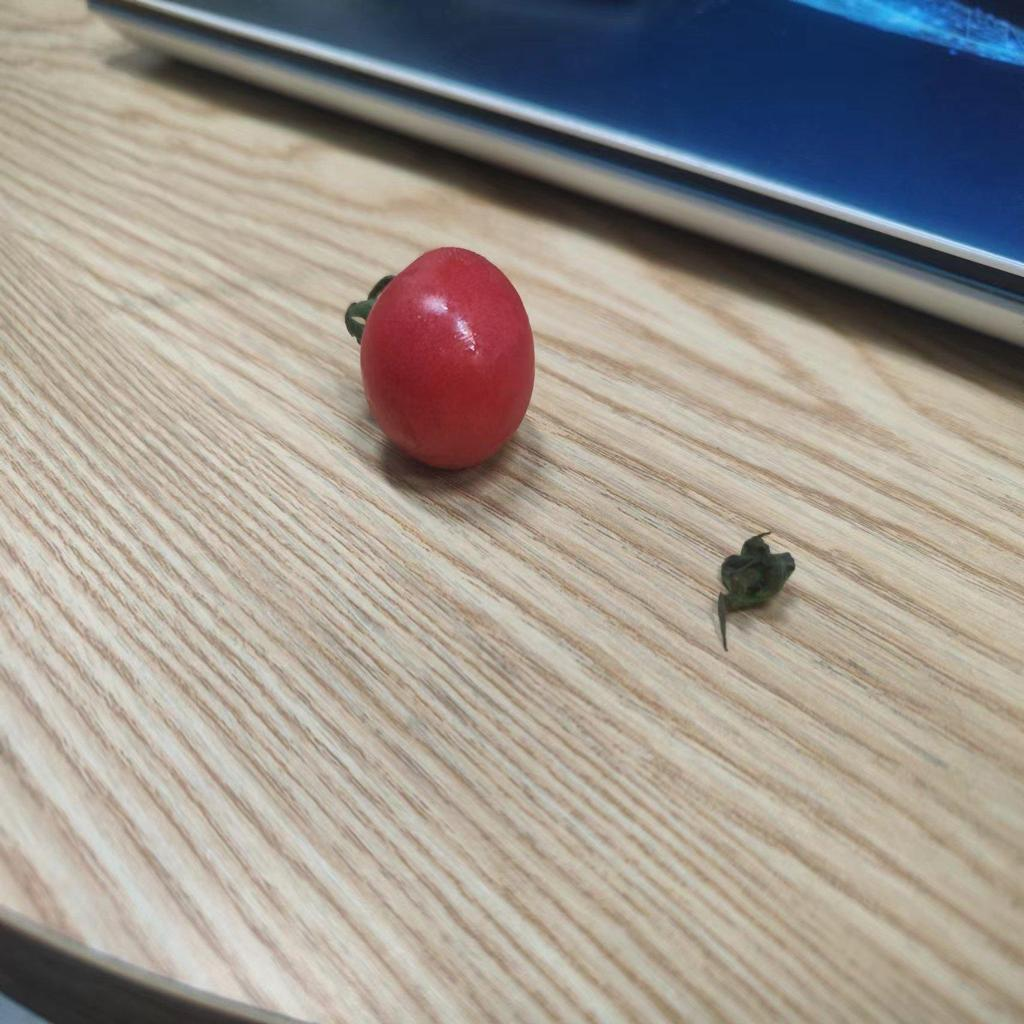tomato: (320, 233, 537, 488)
